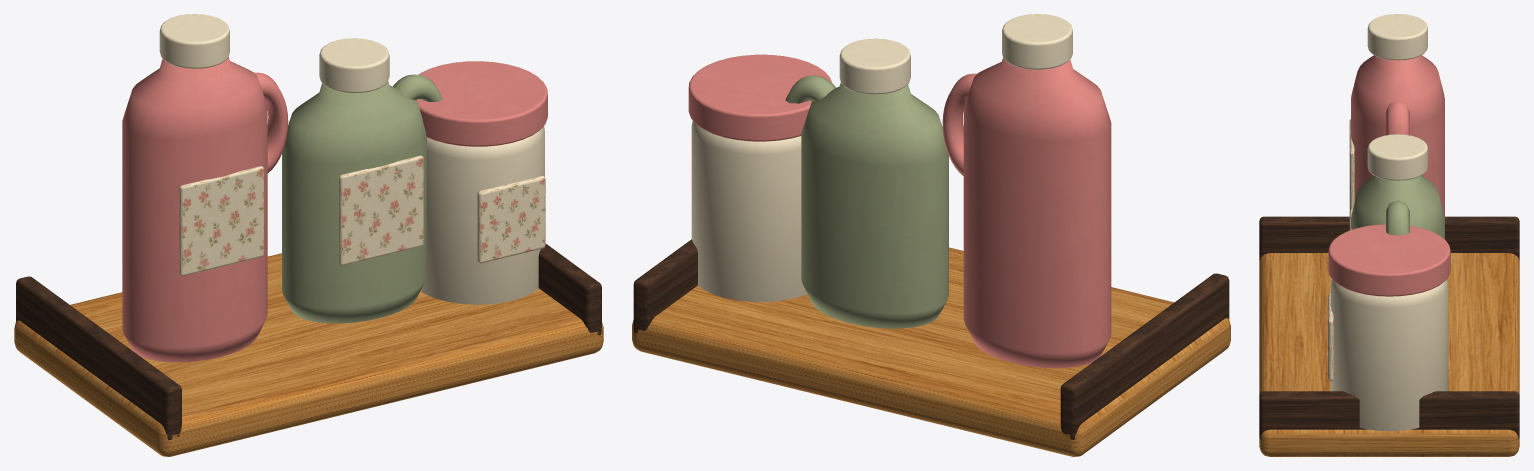
The model's file is SM_InteriorAdditions_DetergentSet.fbx.
The picture shows the model from 3 angles, left to right: view 1: azimuth 30°, elevation 25°; view 2: azimuth 150°, elevation 25°; view 3: azimuth 270°, elevation 25°; orthographic projection. The views are drawn at different scales.
Visible parts, largest first — view 1: SM_InteriorAdditions_DetergentSet; view 2: SM_InteriorAdditions_DetergentSet; view 3: SM_InteriorAdditions_DetergentSet.
Part boxes in pixels (x1,y1,x2,y2): SM_InteriorAdditions_DetergentSet: (14, 14, 603, 456); SM_InteriorAdditions_DetergentSet: (632, 14, 1230, 456); SM_InteriorAdditions_DetergentSet: (1259, 14, 1519, 456).
Size of what is drawn, in the model's own units: 53 by 31 by 39.
